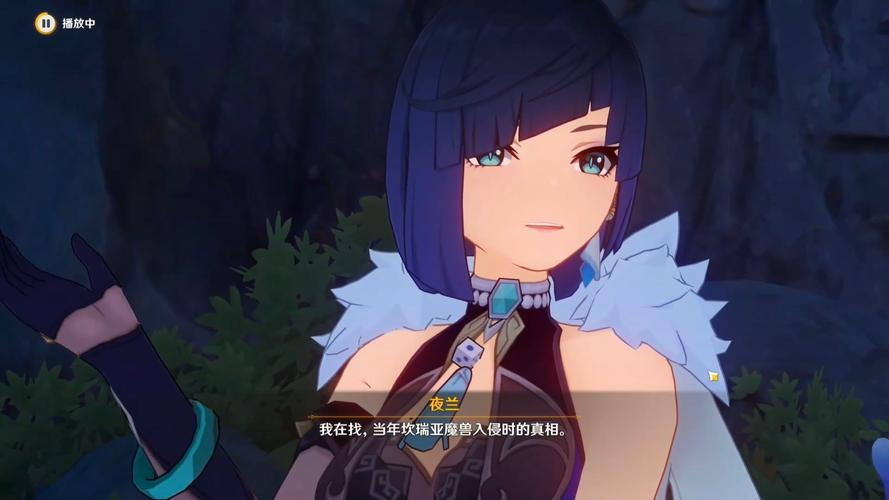夜兰: (1, 2, 683, 500)
